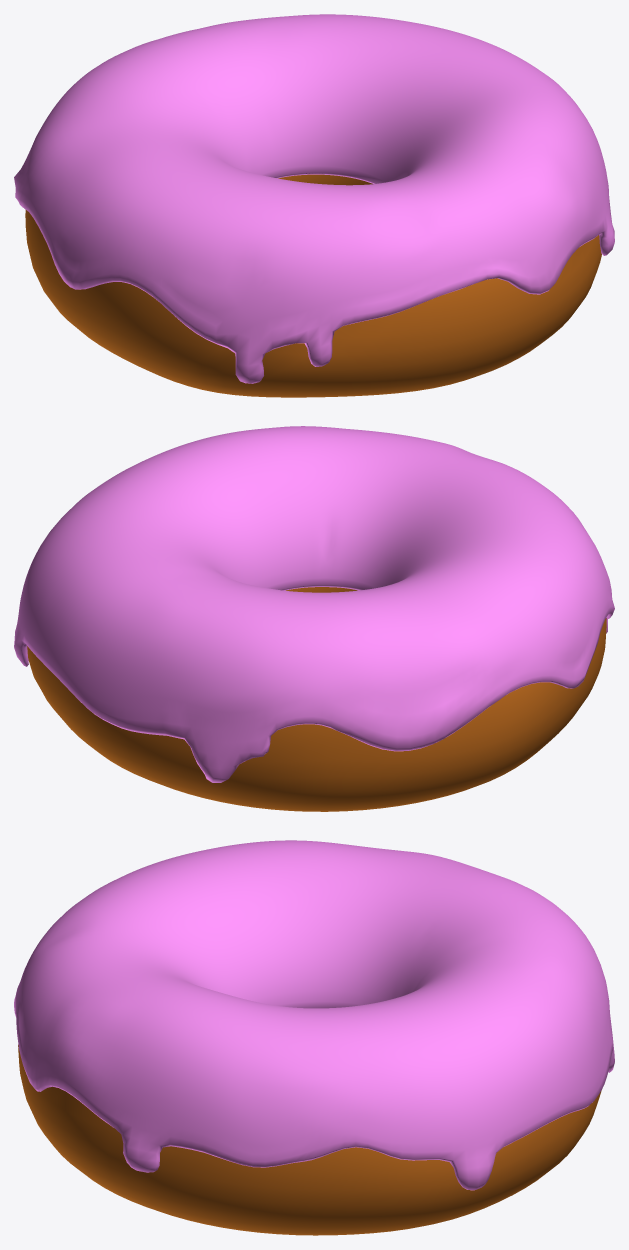
Rendered from donattex.obj.
The picture shows the model from 3 angles, top to bottom: view 1: azimuth 30°, elevation 25°; view 2: azimuth 150°, elevation 25°; view 3: azimuth 270°, elevation 25°; orthographic projection. The views are drawn at different scales.
Parts seen in each view (by area): view 1: icing, Torus; view 2: icing, Torus; view 3: icing, Torus.
Part boxes in pixels (x1,y1,x2,y2): icing: [14, 14, 614, 383]; Torus: [25, 174, 601, 397]; icing: [14, 426, 614, 782]; Torus: [27, 587, 606, 811]; icing: [14, 840, 614, 1190]; Torus: [18, 1045, 601, 1235].
Size of the model in its own units: 0.1128 by 0.0435 by 0.112.
